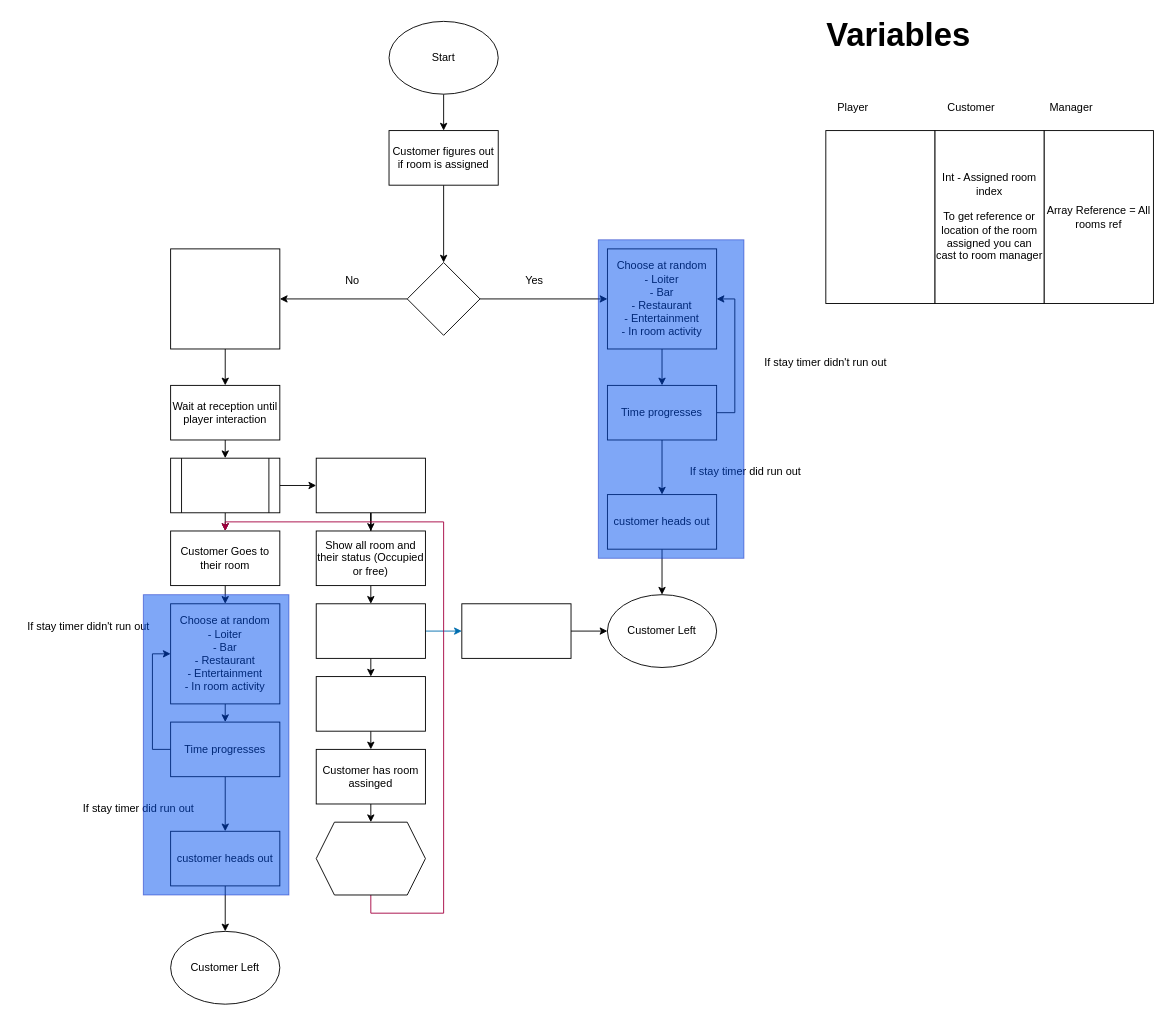
This 1169x1020 diagram has some shape labels left out. Here are the shapes that lost their labels. From the top down, the box of each, then its label:
(170, 248, 280, 349): Go to reception to book room
(406, 262, 480, 335): Has room
(170, 457, 280, 513): Player Interaction
(315, 457, 425, 513): Open room UI
(315, 603, 425, 658): Player selects free room or denies customer
(461, 603, 571, 658): Denied customer is upset and leaves
(315, 676, 425, 731): Selected room confirmed by player
(315, 821, 425, 895): Payment will be collected here
